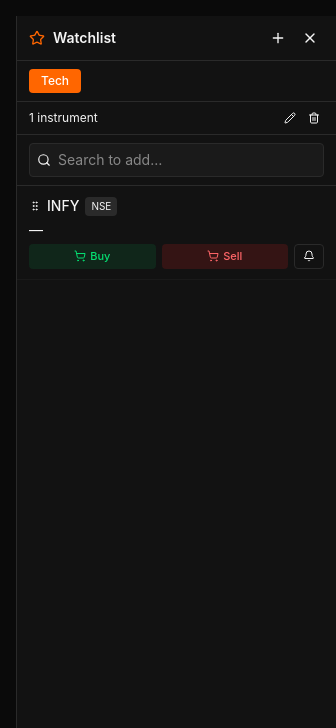
Scenario: rename watchlist › shows rename input on pencil click
The width and height of the screenshot is (336, 728).
Click the button titled "Rename".
click(290, 118)  # box [280,108,300,128]
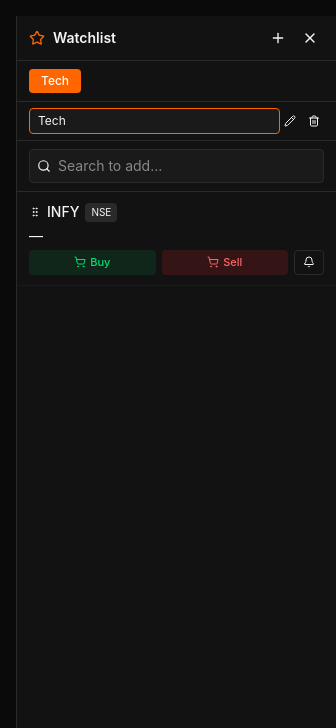
Expected: the field showing "Tech" is shown, [29,108,280,134]
